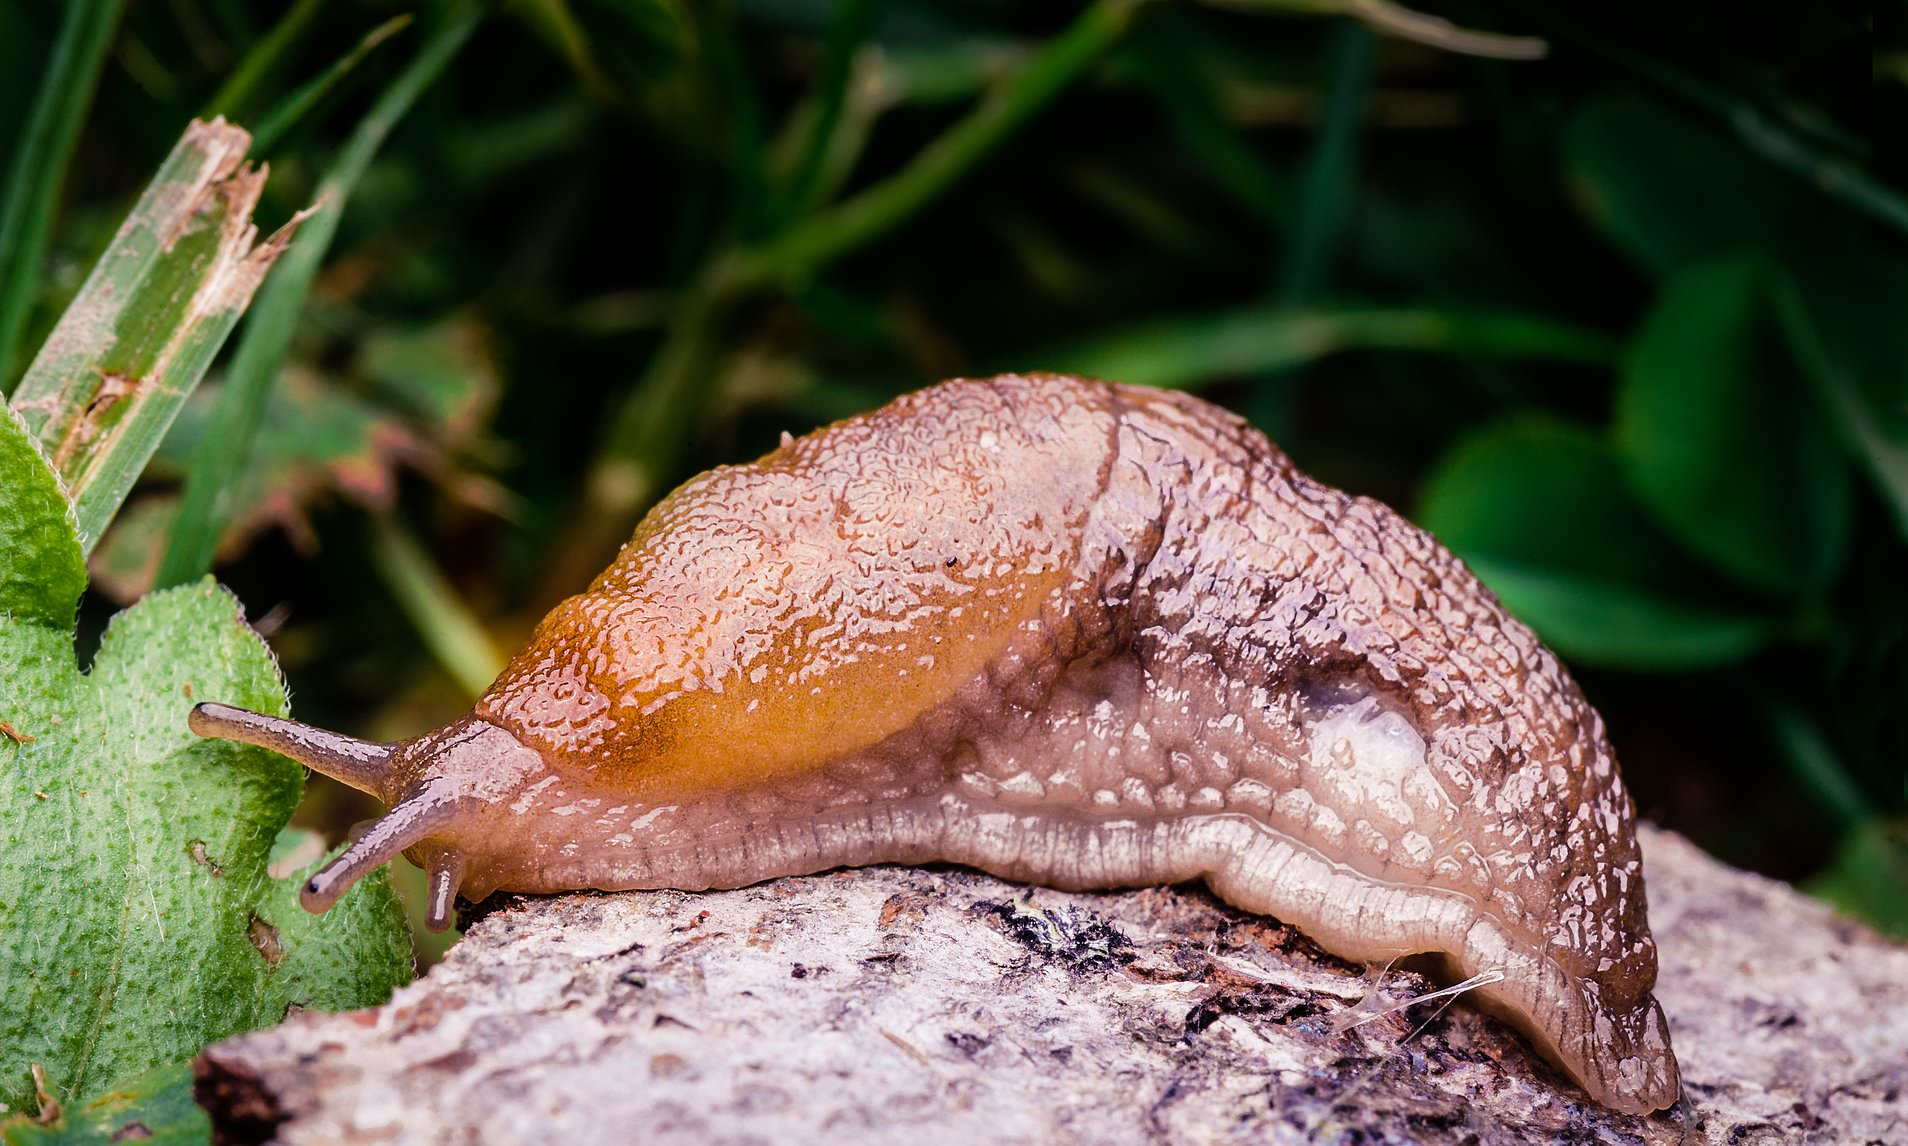slug: (185, 361, 1676, 1111)
